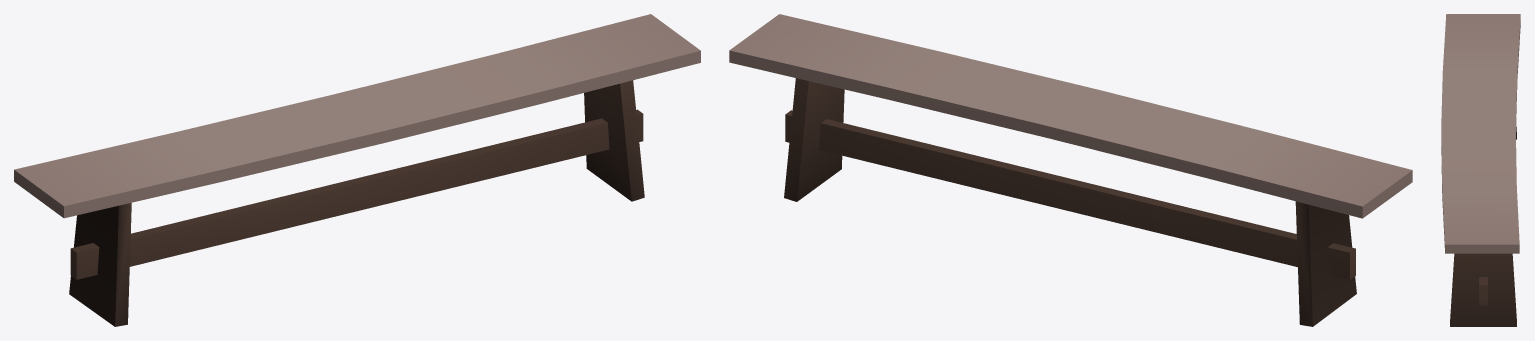
File: prop_bench.glb
3 renders of one model, left to right at view 1: azimuth 30°, elevation 25°; view 2: azimuth 150°, elevation 25°; view 3: azimuth 270°, elevation 25°, orthographic. The views are drawn at different scales.
Visible parts, largest first — view 1: prop_bench_mesh; view 2: prop_bench_mesh; view 3: prop_bench_mesh.
Boxes of the visible parts, left/top/right/bottom form: prop_bench_mesh: left=14, top=14, right=700, bottom=326; prop_bench_mesh: left=729, top=14, right=1412, bottom=326; prop_bench_mesh: left=1441, top=14, right=1520, bottom=326.
Bounding box in the file's own units: 2.2 × 0.4539 × 0.3201.
